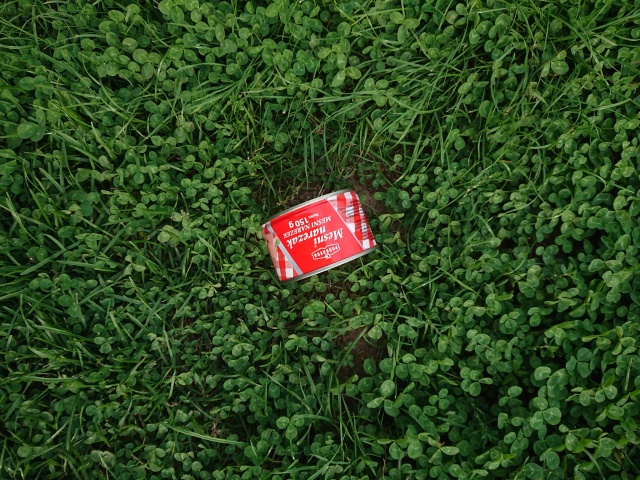Podravka Luncheon Meat 150g: (255, 183, 379, 287)
